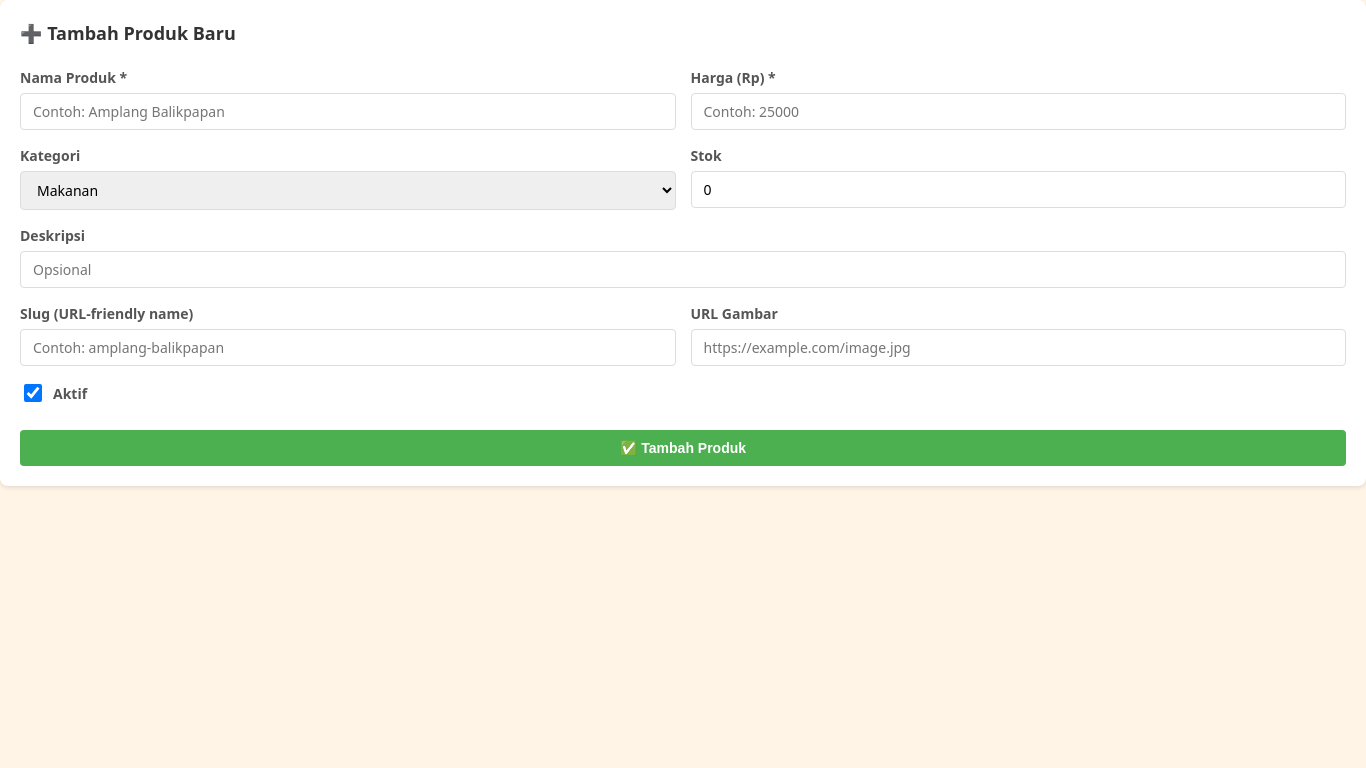
Test: ItemForm Component › validasi harga muncul
Type "Amplang" into the field with placeholder "Contoh: Amplang Balikpapan" at (348, 112), box [20,93,676,130]
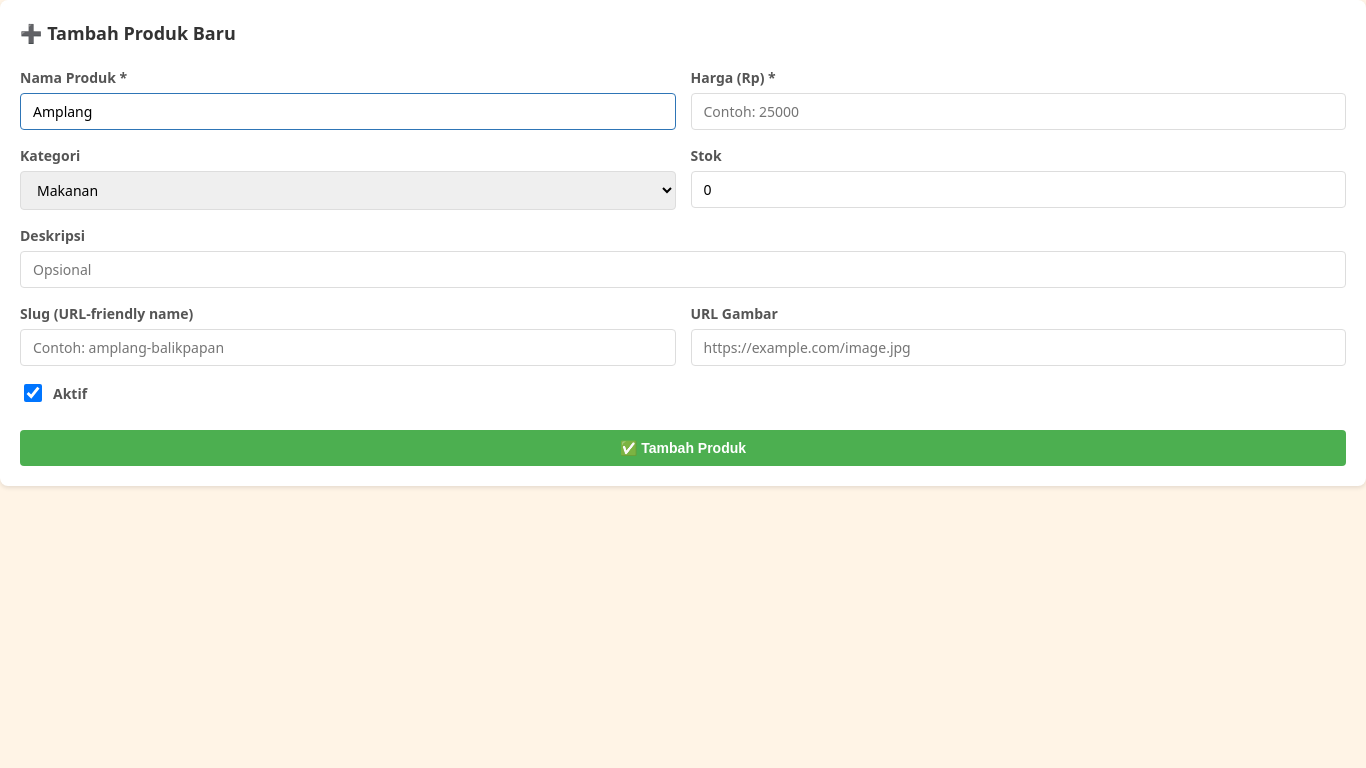
Click the button "✅ Tambah Produk" at (683, 448), box [20,430,1346,466]
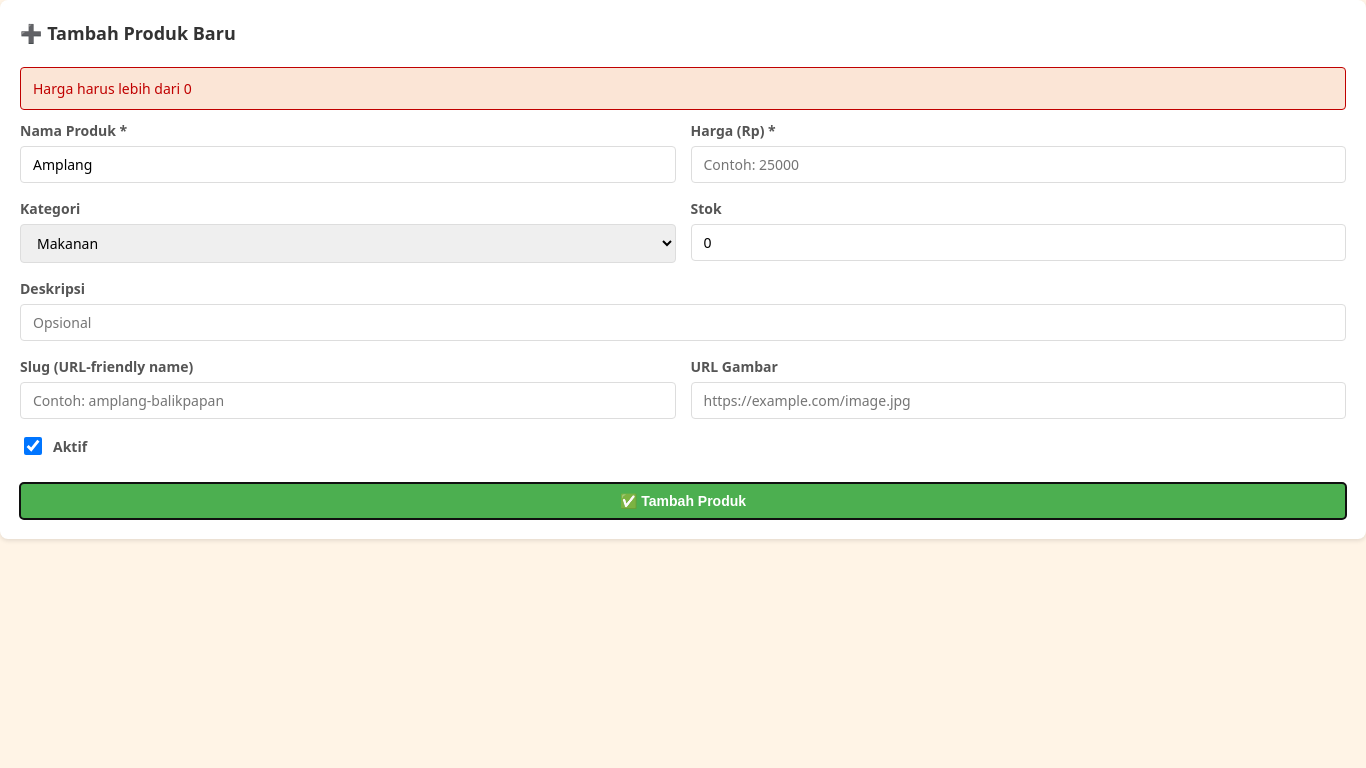
Check: the text "Harga harus lebih dari 0" is shown, box [20,67,1346,110]
